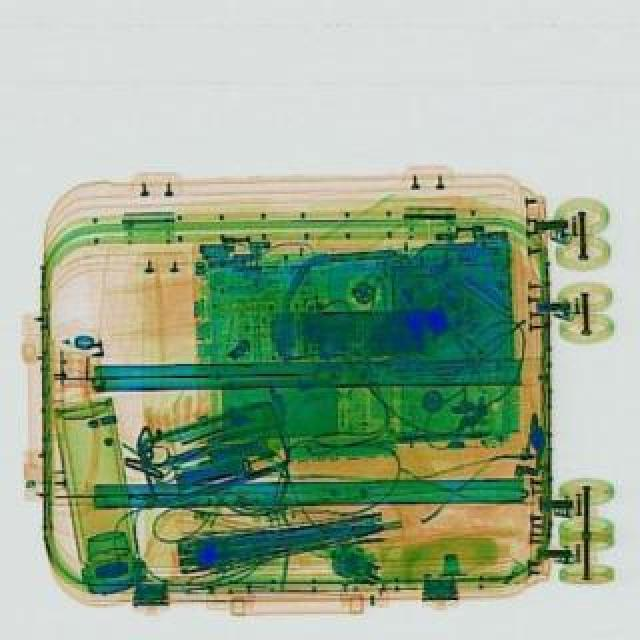pliers: (140, 428, 222, 484)
